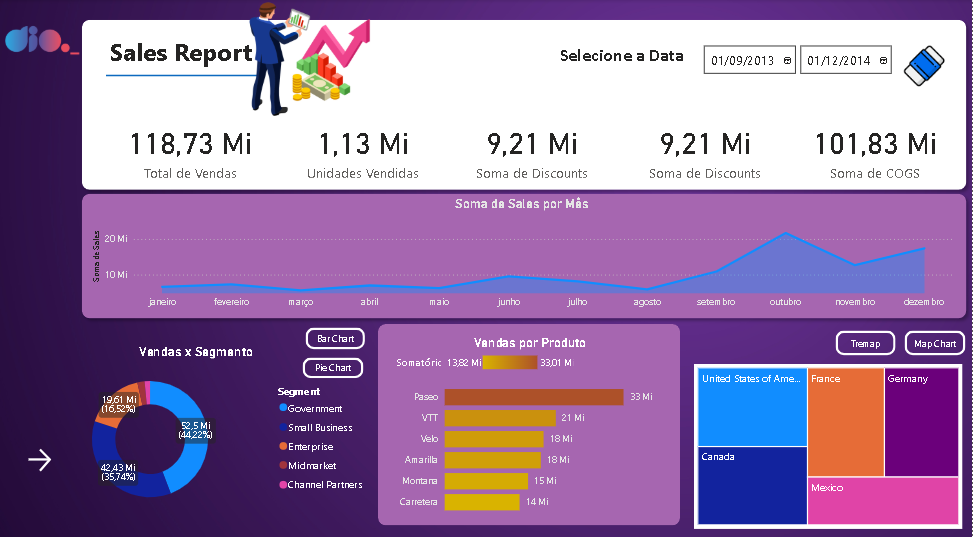

The dashboard page shown, as its layout file describes it:
{"tool":"powerbi","page":{"name":"Principal","canvas":[1280,720],"ordinal":1},"visuals":[{"type":"image","box":[0,0,1280,720.2],"z":0},{"type":"shape","box":[98.3,28.3,1181.7,241.7],"z":1000},{"type":"donutChart","title":"Vendas x Segmento","fields":{"Category":["financials.Segment"],"Y":["Sum(financials. Sales)"]},"box":[23.3,464.3,468.6,231.4],"z":1000,"group":"g3"},{"type":"actionButton","title":"Botão - Bar","box":[392,433.3,98.1,38.5],"z":1250,"group":"g3"},{"type":"actionButton","title":"Botão - Pie","box":[387.2,472.8,100,37.1],"z":1500,"group":"g3"},{"type":"group","id":"g1","title":"Cartôes","box":[140,98.7,1117.2,160.2],"z":2000},{"type":"map","title":"Sales x Country","fields":{"Size":["Sum(financials. Sales)"],"Category":["financials.Country"]},"box":[913.1,481.6,348.6,225.7],"z":2242,"group":"g2"},{"type":"actionButton","title":"Botão - Map","box":[1180,436.2,100,42.5],"z":2984,"group":"g2"},{"type":"textbox","box":[140,51.7,215,58.3],"z":3000},{"type":"shape","box":[1044.9,157.8,212.3,101.1],"z":4000,"group":"g1"},{"type":"shape","box":[98.3,258.3,1181.7,181.7],"z":4000},{"type":"card","fields":{"Values":["Sum(financials.Units Sold)"]},"box":[377.2,165.6,203.3,85],"z":5000,"group":"g1"},{"type":"shape","box":[497.5,437.5,397.5,265],"z":5000},{"type":"card","fields":{"Values":["Sum(financials. Sales)"]},"box":[148.9,165.6,203.3,85],"z":6000,"group":"g1"},{"type":"areaChart","fields":{"Category":["financials.Date.Variation.Hierarquia de datas.Mês"],"Y":["Sum(financials. Sales)"]},"box":[116,270,1142,156],"z":6000},{"type":"card","fields":{"Values":["Sum(financials.Discounts)"]},"box":[827.2,165.6,203.3,85],"z":7000,"group":"g1"},{"type":"clusteredBarChart","title":"Vendas por Produto","fields":{"Y":["Sum(financials. Sales)"],"Category":["financials.Product"]},"box":[517.5,452.5,360,247.5],"z":7000},{"type":"slicer","fields":{"Values":["financials.Date"]},"box":[913.3,61.7,266.7,56.7],"z":8000},{"type":"card","fields":{"Values":["Sum(financials.COGS)"]},"box":[1050.6,165.6,203.3,85],"z":8000,"group":"g1"},{"type":"textbox","box":[731.7,65,180,58.3],"z":9000},{"type":"card","fields":{"Values":["Sum(financials.Discounts)"]},"box":[598.9,165.6,203.3,85],"z":9000,"group":"g1"},{"type":"shape","box":[140,98.7,208.3,25],"z":10000,"group":"g1"},{"type":"group","id":"g2","title":"Sales x país","box":[912.8,436.2,367.2,271.1],"z":10000},{"type":"actionButton","title":"Botão - Tre","box":[1090,436.2,98.8,42.5],"z":11000},{"type":"group","id":"g3","title":"Sales x Segment","box":[23.3,433.3,468.6,266.7],"z":12000},{"type":"actionButton","box":[32,598,48,40],"z":13000},{"type":"image","box":[1178.3,70,75,56.7],"z":14000},{"type":"actionButton","box":[1180,70,71.7,56.7],"z":15000},{"type":"image","box":[293.3,0,271.7,178.3],"z":16000},{"type":"image","box":[6,2,98,124],"z":17000},{"type":"actionButton","box":[31.7,536.7,46.7,40],"z":18000},{"type":"image","box":[21.4,464.3,57.1,51.4],"z":19000},{"type":"actionButton","box":[21.4,457.1,57.1,61.4],"z":20000}]}

Visuals, with their boxes in screenshot pixels (x1, y1, x2, y2), scaled from the page's 1280x720 canvas onto the 973x537 screenshot:
image: [0,0,972,536]
shape: [75,21,972,201]
"Vendas x Segmento" donutChart: [18,346,374,519]
"Botão - Bar" actionButton: [298,323,373,352]
"Botão - Pie" actionButton: [294,353,370,380]
"Cartôes" group: [106,74,956,193]
"Sales x Country" map: [694,359,959,528]
"Botão - Map" actionButton: [897,325,972,357]
textbox: [106,39,270,82]
shape: [794,118,956,193]
shape: [75,193,972,328]
card - Sum(financials.Units Sold): [287,124,441,187]
shape: [378,326,680,524]
card - Sum(financials. Sales): [113,124,268,187]
areaChart - financials.Date.Variation.Hierarquia de datas.Mês x Sum(financials. Sales): [88,201,956,318]
card - Sum(financials.Discounts): [629,124,783,187]
"Vendas por Produto" clusteredBarChart: [393,337,667,522]
slicer - financials.Date: [694,46,897,88]
card - Sum(financials.COGS): [799,124,953,187]
textbox: [556,48,693,92]
card - Sum(financials.Discounts): [455,124,610,187]
shape: [106,74,265,92]
"Sales x país" group: [694,325,972,528]
"Botão - Tre" actionButton: [829,325,904,357]
"Sales x Segment" group: [18,323,374,522]
actionButton: [24,446,61,476]
image: [896,52,953,94]
actionButton: [897,52,951,94]
image: [223,0,429,133]
image: [5,1,79,94]
actionButton: [24,400,60,430]
image: [16,346,60,385]
actionButton: [16,341,60,387]
